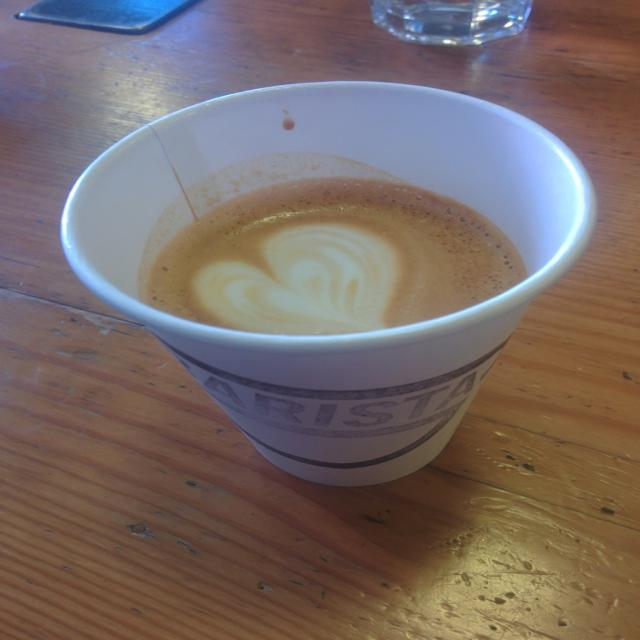Coffee: (143, 172, 532, 330)
